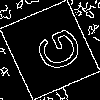G: (25, 24, 85, 79)
